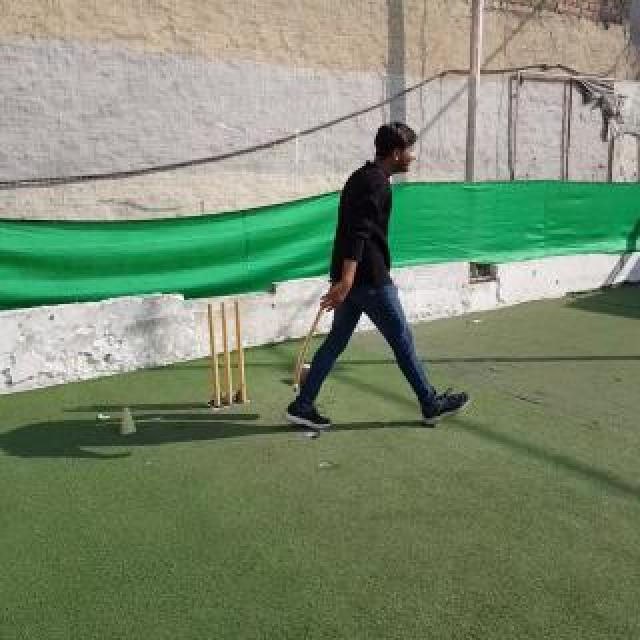bat: (292, 286, 334, 392)
